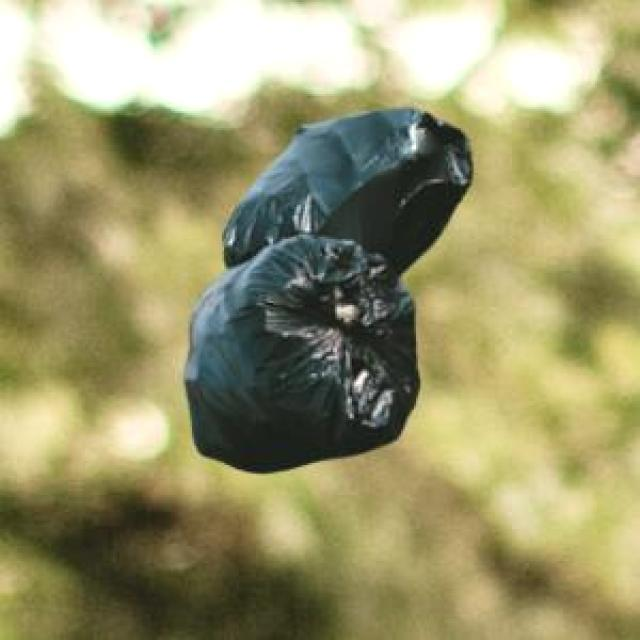Trashbag: (182, 240, 426, 472), (228, 97, 453, 276)
